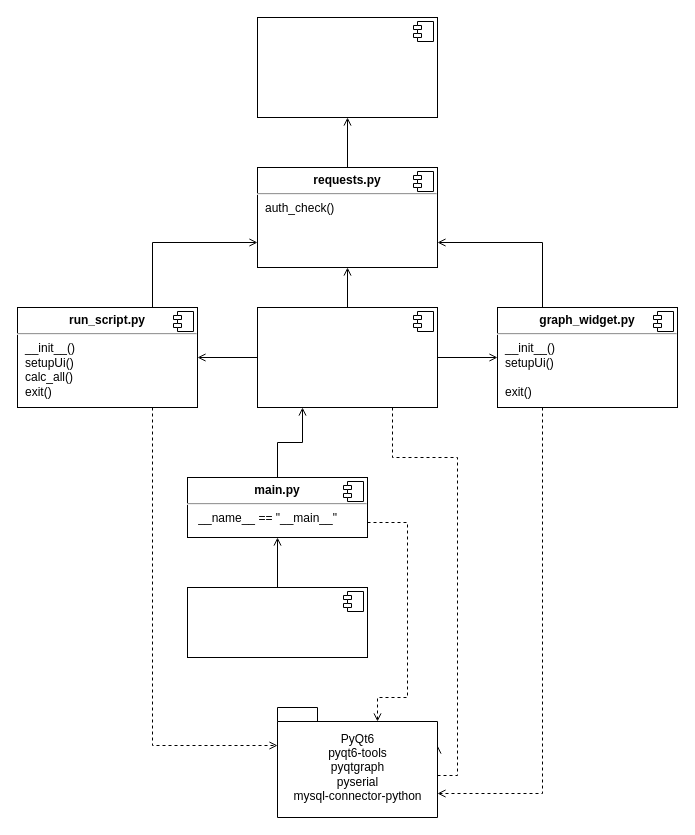
Image size: 695x835. Some labels were removed from this diagram. The centre of each missing label's shape, as x and y in pixels:
authorization.py __init__() setupUi() authorization() exit(): point (347, 357)
connect .py __init__() commit() close(): point (347, 67)
global_validator .py hook(): point (277, 622)
